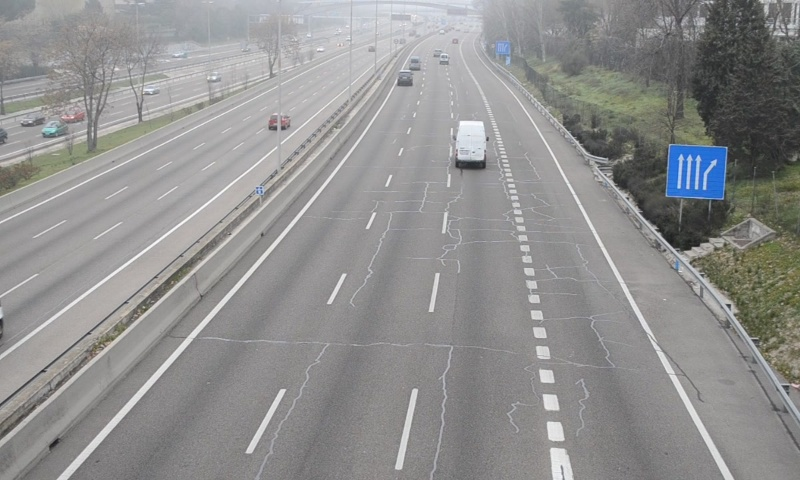car: (396, 70, 412, 86)
van: (456, 120, 488, 167)
